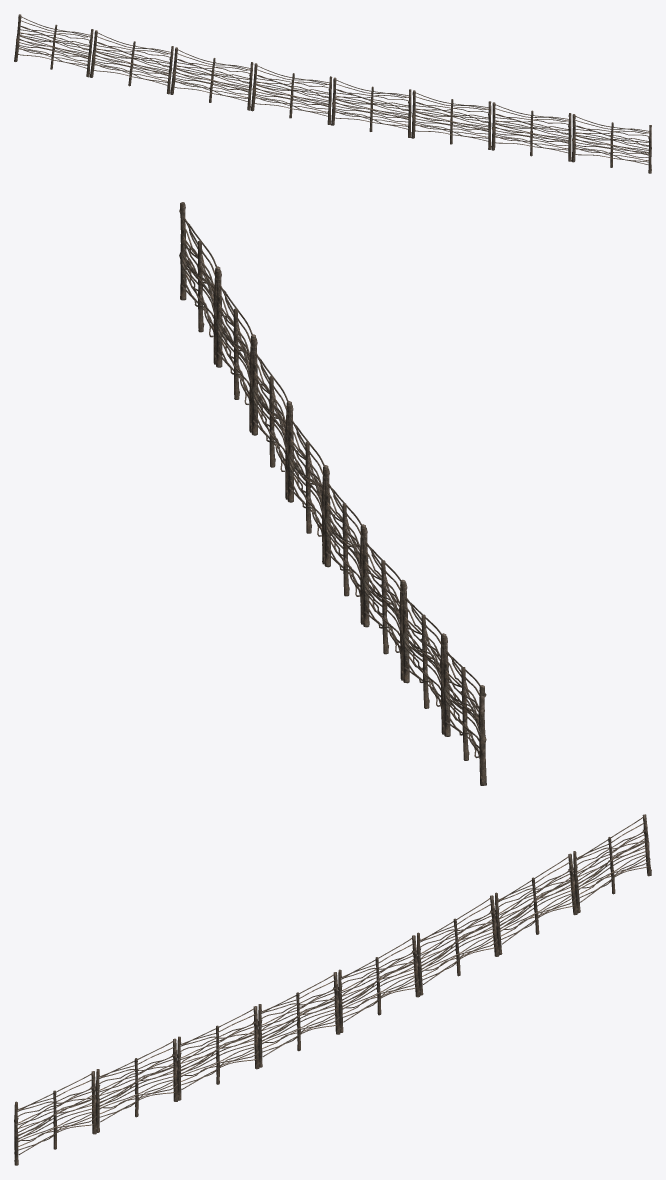
File: SM_Fence_02a_Splines_19.fbx
The picture shows the model from 3 angles, top to bottom: view 1: azimuth 30°, elevation 25°; view 2: azimuth 150°, elevation 25°; view 3: azimuth 270°, elevation 25°; orthographic projection. The views are drawn at different scales.
Parts seen in each view (by area): view 1: SM_Fence_02a_Splines_19_LOD0; view 2: SM_Fence_02a_Splines_19_LOD0; view 3: SM_Fence_02a_Splines_19_LOD0.
Part boxes in pixels (x1,y1,x2,y2): SM_Fence_02a_Splines_19_LOD0: [14, 14, 651, 173]; SM_Fence_02a_Splines_19_LOD0: [179, 202, 486, 785]; SM_Fence_02a_Splines_19_LOD0: [14, 814, 651, 1165].
Bounding box in the file's own units: 1143 × 1223 × 215.
